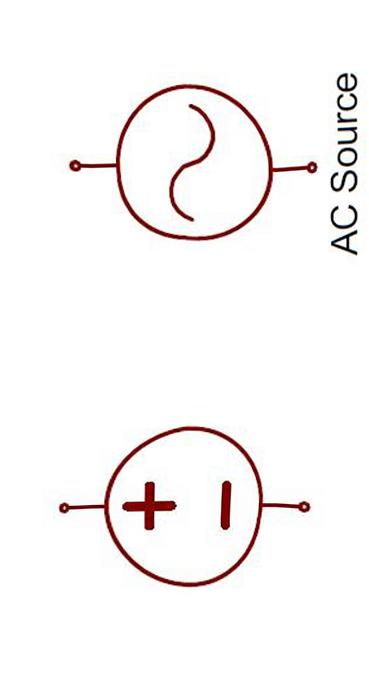Battery: (52, 399, 294, 615)
